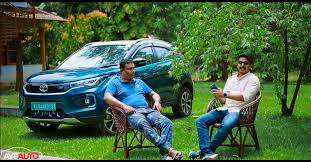Tata Nexon: (18, 40, 112, 138)
